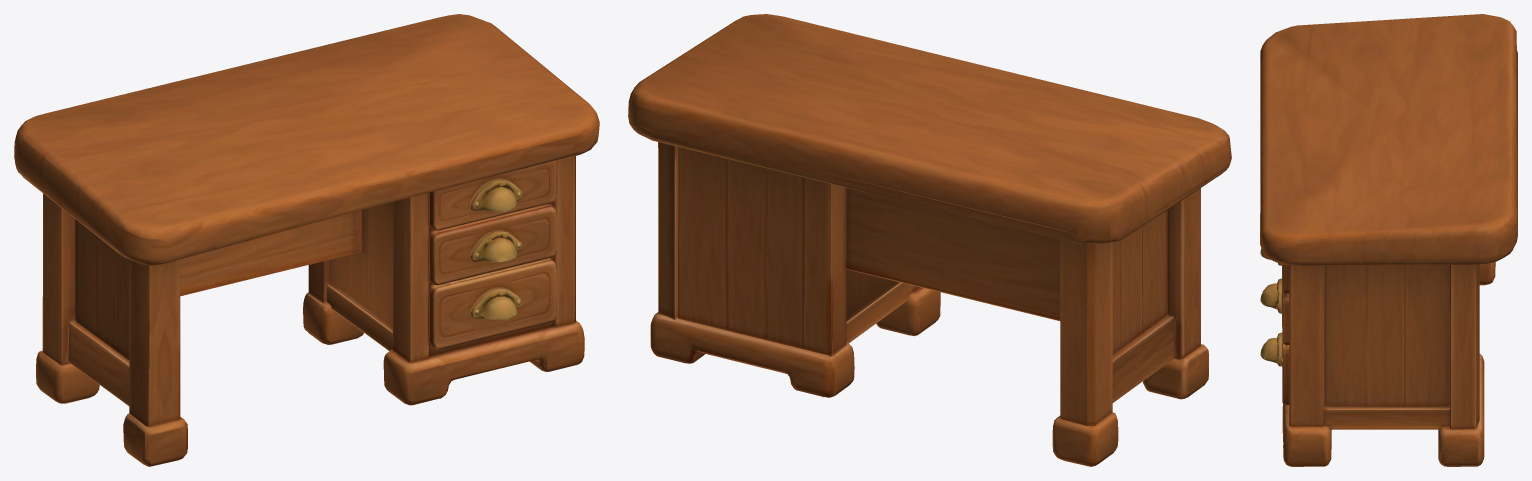
File: desk.glb
The picture shows the model from 3 angles, left to right: view 1: azimuth 30°, elevation 25°; view 2: azimuth 150°, elevation 25°; view 3: azimuth 270°, elevation 25°; orthographic projection. The views are drawn at different scales.
Parts seen in each view (by area): view 1: desk; view 2: desk; view 3: desk.
Part boxes in pixels (bbox=[...]): desk: bbox=[14, 14, 599, 466]; desk: bbox=[628, 14, 1231, 466]; desk: bbox=[1260, 14, 1517, 466].
Bounding box in the file's own units: 1.4 × 0.7488 × 0.6993.
Materials: 1 (1 with a texture image).
